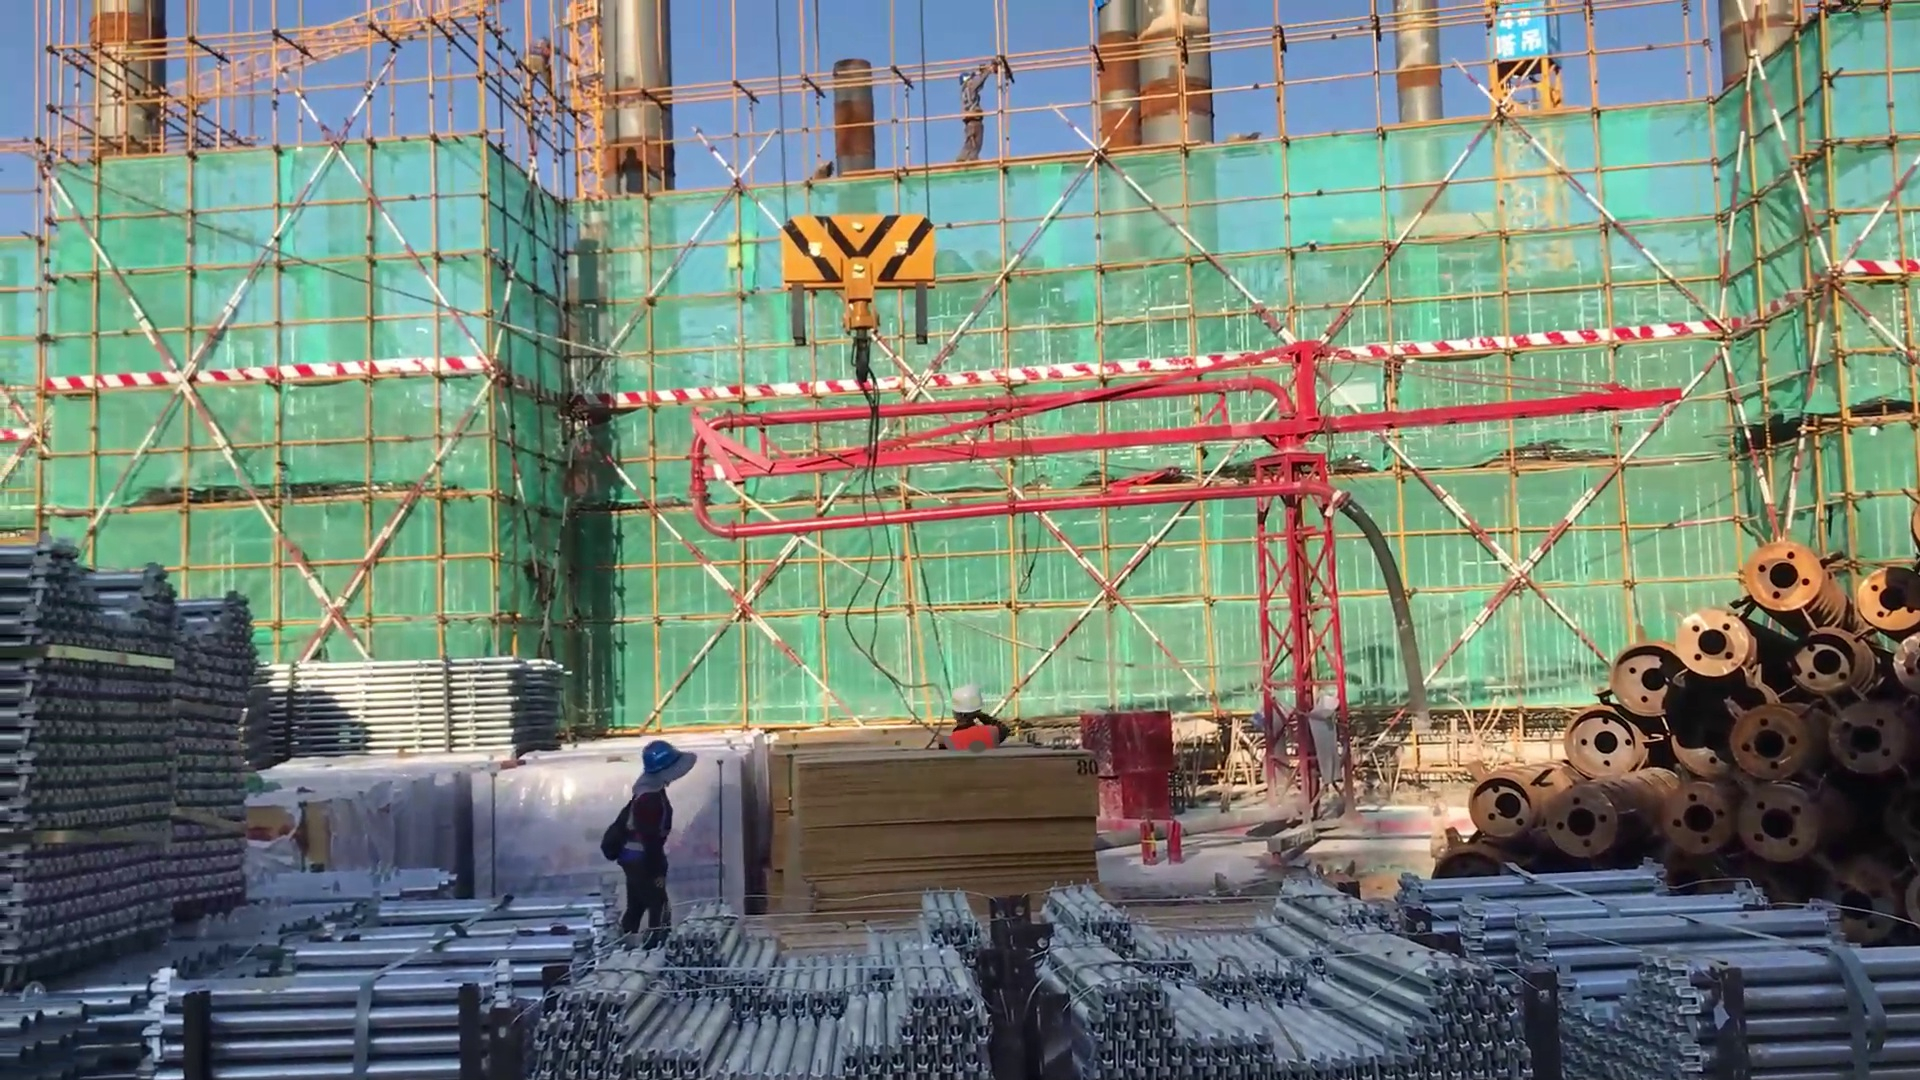board: (752, 743, 1098, 941)
helmet: (638, 722, 695, 786), (952, 684, 995, 731), (956, 65, 986, 101)
hook: (761, 194, 941, 412)
person: (612, 735, 701, 948), (940, 54, 1018, 172), (928, 678, 1019, 769)
scaffold: (1379, 853, 1920, 1078), (1, 549, 265, 974), (1, 848, 448, 1079), (508, 896, 1026, 1080), (1050, 885, 1534, 1080), (247, 638, 581, 773)
slogan: (1487, 5, 1569, 67)
vest: (620, 787, 674, 872), (935, 723, 1013, 761), (957, 85, 985, 115)
